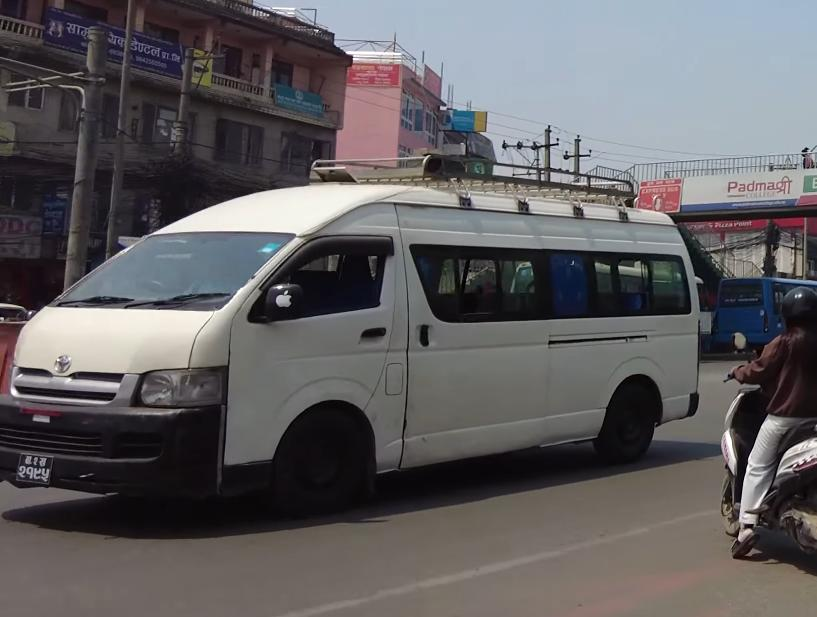bus: (716, 275, 816, 348)
micro_bus: (0, 152, 703, 528)
scooter: (710, 336, 817, 569)
